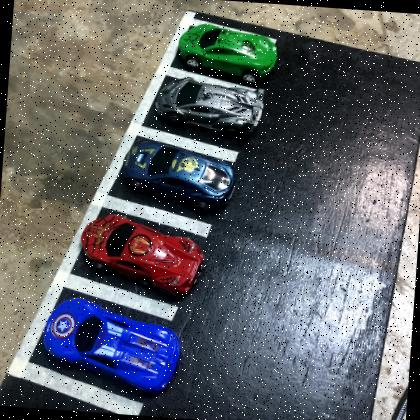Car: (38, 294, 184, 397), (77, 210, 208, 302), (118, 139, 238, 219), (152, 72, 266, 140), (176, 21, 279, 85)
